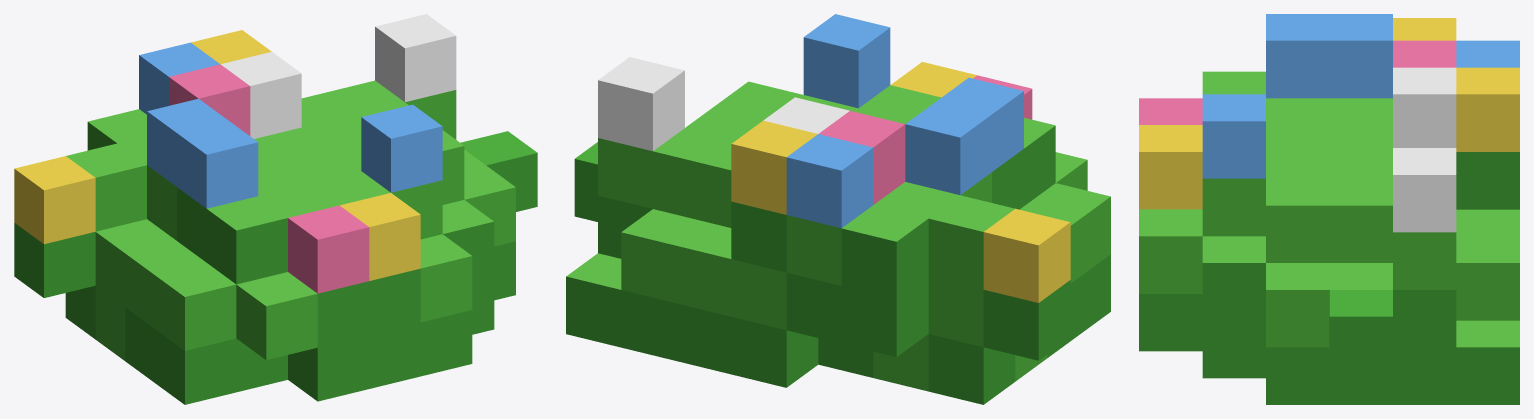
Rendered from deko_blumenbusch.fbx.
3 views of the same model, side by side, from view 1: azimuth 30°, elevation 25°; view 2: azimuth 150°, elevation 25°; view 3: azimuth 270°, elevation 25° (orthographic). The views are drawn at different scales.
Parts seen in each view (by area): view 1: Deko_Blumenbusch; view 2: Deko_Blumenbusch; view 3: Deko_Blumenbusch.
Part boxes in pixels (left/top/right/bottom): Deko_Blumenbusch: left=14, top=14, right=537, bottom=404; Deko_Blumenbusch: left=566, top=14, right=1110, bottom=404; Deko_Blumenbusch: left=1139, top=14, right=1519, bottom=404.
Size of the model in its own units: 6.75 by 3 by 4.5.
Materials: 1 (1 with a texture image).
